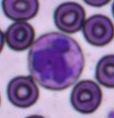N: (27, 31, 84, 90)
